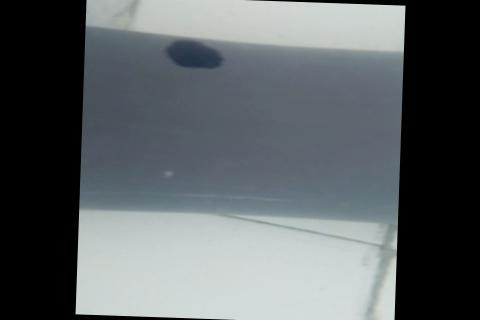kebocoran: (162, 36, 225, 72)
